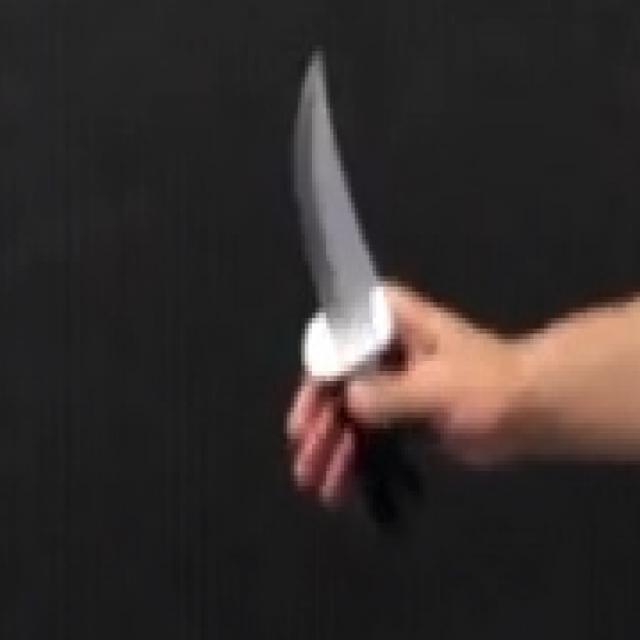suspicion: (280, 33, 638, 541), (283, 40, 441, 538)
